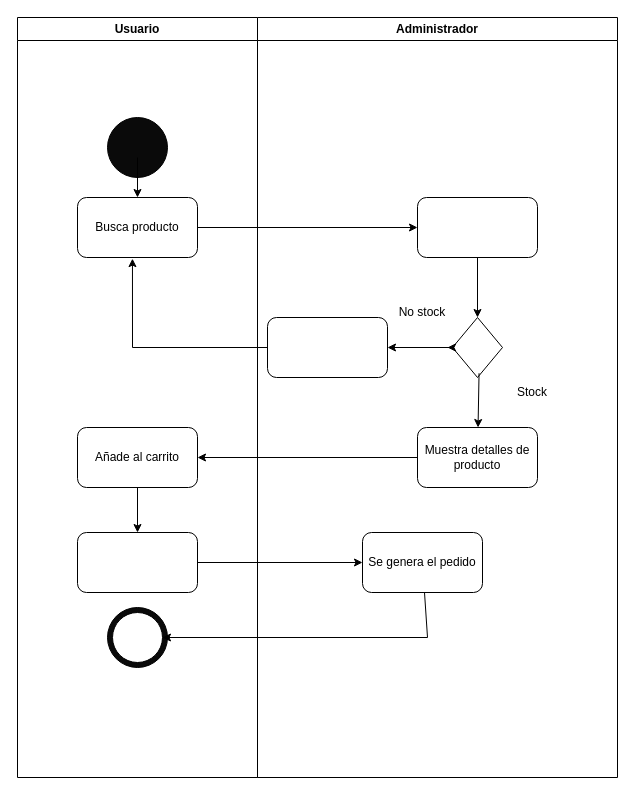
This 635x795 diagram has some shape labels left out. Here are the shapes that lost their labels. From the top down, the centre of each, then its label:
At (x=477, y=227): "Comprueba disponibilidad".
At (x=327, y=347): "Se informa al usuario".
At (x=137, y=562): "Paga el producto".
